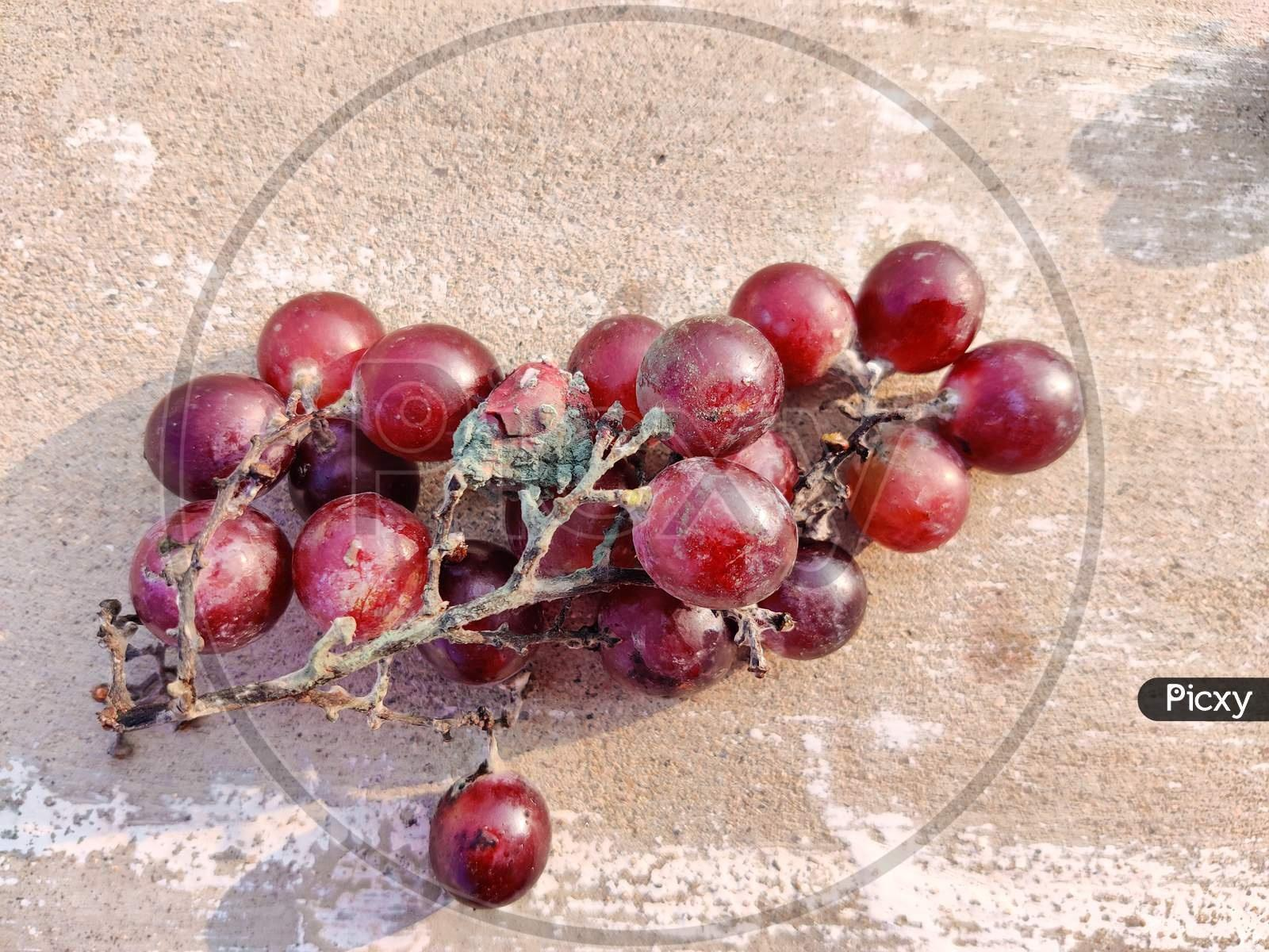Grape Rotten: (132, 241, 1083, 720)
